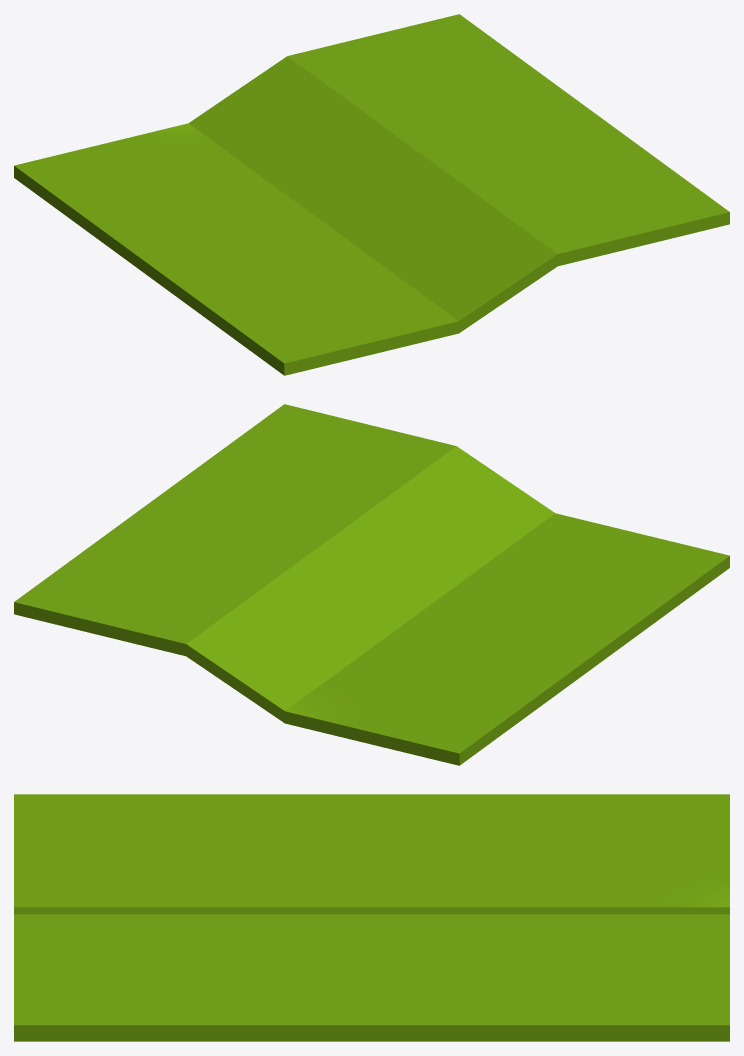
File: graound3.2.fbx
The picture shows the model from 3 angles, top to bottom: view 1: azimuth 30°, elevation 25°; view 2: azimuth 150°, elevation 25°; view 3: azimuth 270°, elevation 25°; orthographic projection. The views are drawn at different scales.
Parts seen in each view (by area): view 1: Cube; view 2: Cube; view 3: Cube.
Part boxes in pixels (x1,y1,x2,y2): Cube: (14, 14, 729, 375); Cube: (14, 404, 729, 765); Cube: (14, 794, 729, 1041).
Bounding box in the file's own units: 3804 × 451 × 4000.
